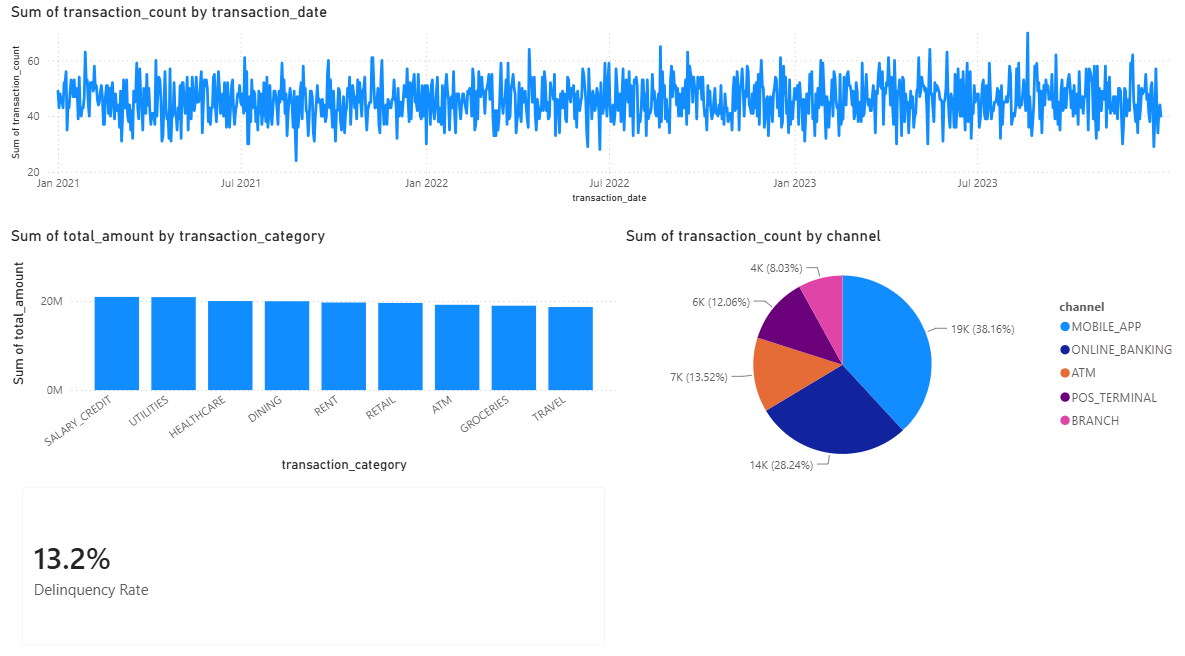

What the dashboard file says about the page in this screenshot:
{"tool":"powerbi","page":{"name":"Transaction_Trends","canvas":[1280,720],"ordinal":1},"visuals":[{"type":"lineChart","fields":{"Y":["Sum(transaction_summary.transaction_count)"],"Category":["transaction_summary.transaction_date"]},"box":[9.7,9.7,1270.3,221.8],"z":0},{"type":"clusteredColumnChart","fields":{"Category":["transaction_summary.transaction_category"],"Y":["Sum(transaction_summary.total_amount)"]},"box":[10.1,250.5,662.1,269.7],"z":1000},{"type":"pieChart","fields":{"Category":["transaction_summary.channel"],"Y":["Sum(transaction_summary.transaction_count)"]},"box":[672.2,250.5,607.8,279.7],"z":2000},{"type":"cardVisual","fields":{"Data":["customer_360.Delinquency Rate"]},"box":[10,515,662,205],"z":3000}]}

Visuals, with their boxes in screenshot pixels (x1, y1, x2, y2), scaled from the page's 1280x720 canvas onto the 1185x656 screenshot:
lineChart - Sum(transaction_summary.transaction_count) x transaction_summary.transaction_date: x1=9 y1=9 x2=1184 y2=211
clusteredColumnChart - transaction_summary.transaction_category x Sum(transaction_summary.total_amount): x1=9 y1=228 x2=622 y2=474
pieChart - transaction_summary.channel x Sum(transaction_summary.transaction_count): x1=622 y1=228 x2=1184 y2=483
cardVisual - customer_360.Delinquency Rate: x1=9 y1=469 x2=622 y2=655
